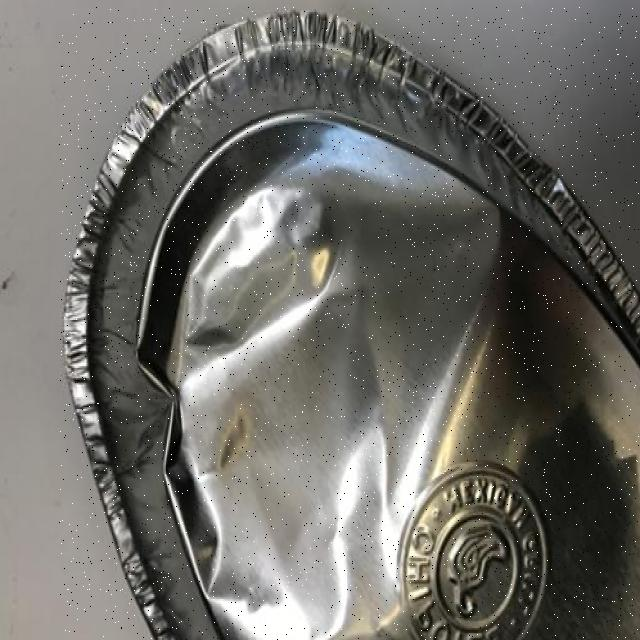metal: (59, 7, 640, 640)
